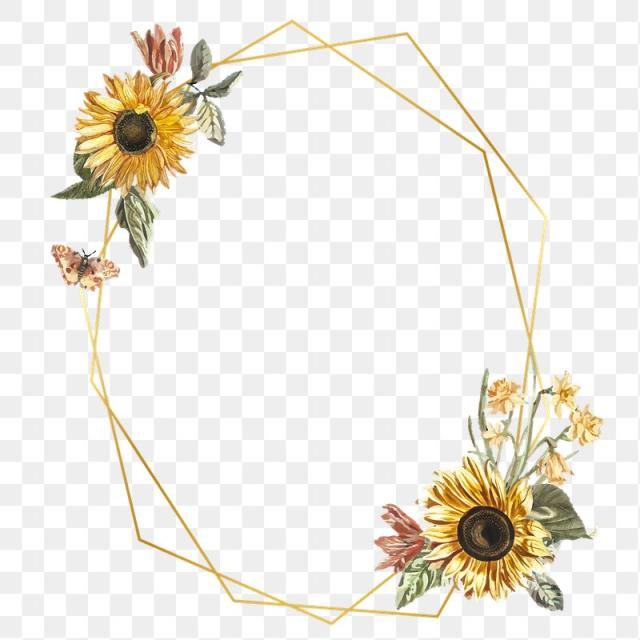sunflower: (418, 454, 554, 600), (73, 70, 199, 196)
